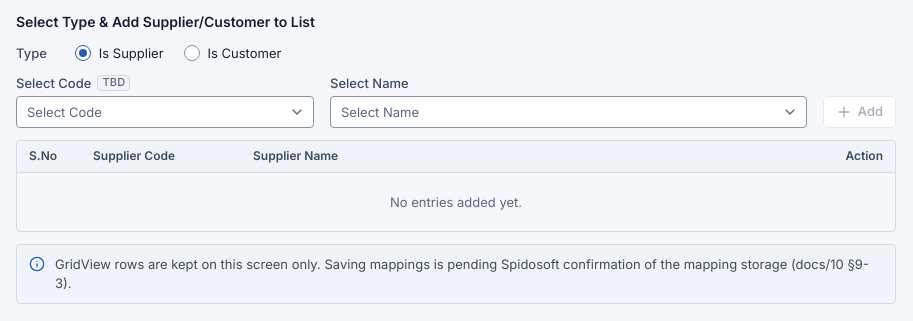
Test: MappingSection › switches the GridView headers and options to Customer
Step 1. Click the radio button labelled "Is Customer" → point(192, 53), box [184,45,200,61]
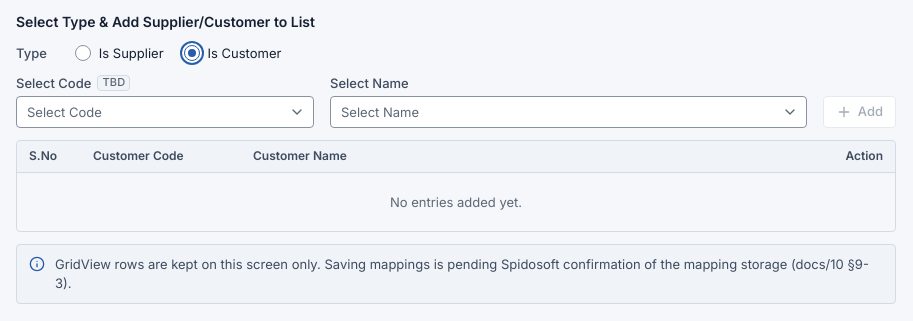
Now the column heading "Customer Code" is shown, box [81,141,241,173]
Now the column heading "Customer Name" is shown, box [241,141,783,173]
